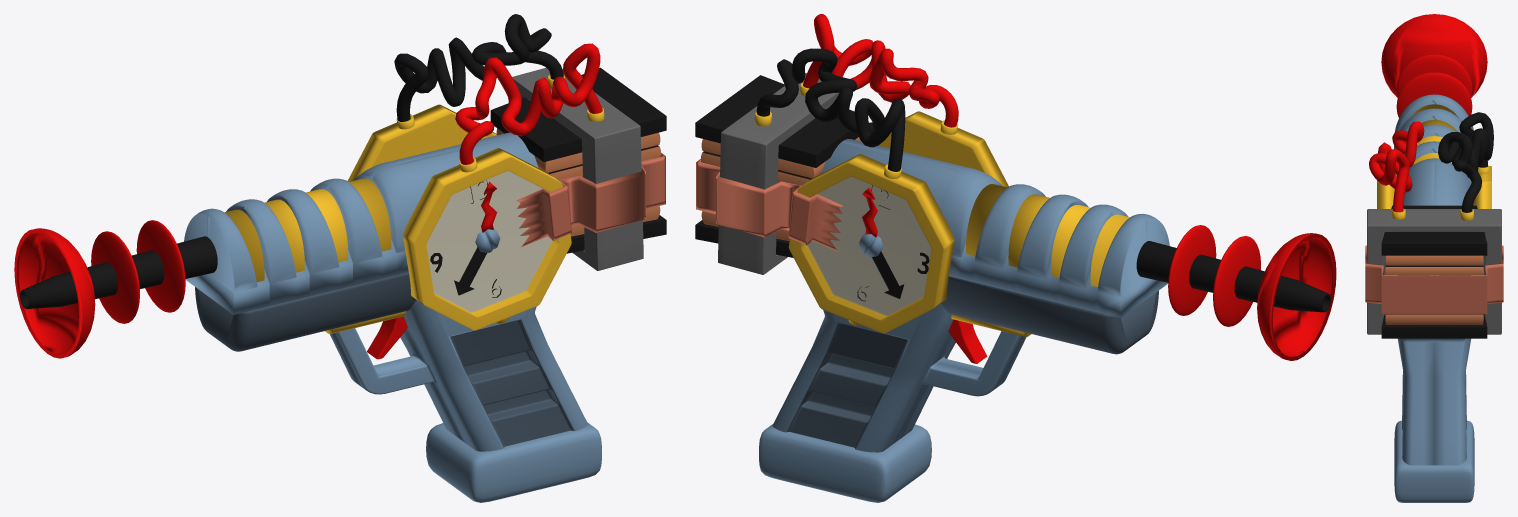
The model's file is laserBea 1.fbx.
3 views of the same model, side by side, from view 1: azimuth 30°, elevation 25°; view 2: azimuth 150°, elevation 25°; view 3: azimuth 270°, elevation 25° (orthographic). The views are drawn at different scales.
Visible parts, largest first — view 1: Cube.002, Cube, Cube.007, Cube.008, Cube.006, Cube.003, Cube.009, Cube.001, Sphere.002, BezierCurve, BezierCurve.001, Cylinder.001 (+4 smaller); view 2: Cube.002, Cube, Cube.007, Cube.008, Cube.006, Cube.003, Cube.009, Cube.001, Sphere.002, BezierCurve.001, BezierCurve, Cylinder.001 (+4 smaller); view 3: Cube.007, Cube.001, Cube.009, Cube.003, Sphere.002, Cube, Cube.008, BezierCurve.001, BezierCurve, Sphere, Sphere.001, Cube.002 (+1 smaller).
Part boxes in pixels (box(x1,y1,x2,y2)): Cube.002: box(347, 104, 571, 330); Cube: box(184, 132, 538, 314); Cube.007: box(330, 300, 588, 451); Cube.008: box(426, 422, 601, 502); Cube.006: box(195, 272, 416, 351); Cube.003: box(512, 67, 643, 270); Cube.009: box(492, 132, 665, 247); Cube.001: box(490, 67, 666, 253); Sphere.002: box(14, 228, 95, 358); BezierCurve: box(455, 43, 602, 164); BezierCurve.001: box(394, 14, 563, 121); Cylinder.001: box(225, 178, 391, 282); Cube.002: box(788, 111, 1008, 333); Cube: box(821, 139, 1169, 317); Cube.007: box(772, 303, 1026, 452); Cube.008: box(759, 424, 931, 502); Cube.006: box(941, 276, 1158, 354); Cube.003: box(718, 73, 839, 274); Cube.009: box(696, 159, 842, 251); Cube.001: box(695, 75, 868, 257); Sphere.002: box(1257, 233, 1336, 360); BezierCurve.001: box(756, 48, 905, 171); BezierCurve: box(803, 14, 958, 127); Cylinder.001: box(966, 184, 1129, 287); Cube.007: box(1398, 338, 1470, 465); Cube.001: box(1381, 205, 1487, 338); Cube.009: box(1365, 245, 1503, 314); Cube.003: box(1367, 209, 1501, 334); Sphere.002: box(1381, 14, 1487, 97); Cube: box(1394, 94, 1473, 205); Cube.008: box(1394, 420, 1474, 502); BezierCurve.001: box(1438, 112, 1493, 212); BezierCurve: box(1369, 121, 1424, 212); Sphere: box(1396, 72, 1472, 117); Sphere.001: box(1396, 54, 1472, 97); Cube.002: box(1377, 166, 1491, 208).
Bounding box in the file's own units: 316 × 220 × 77.78.
